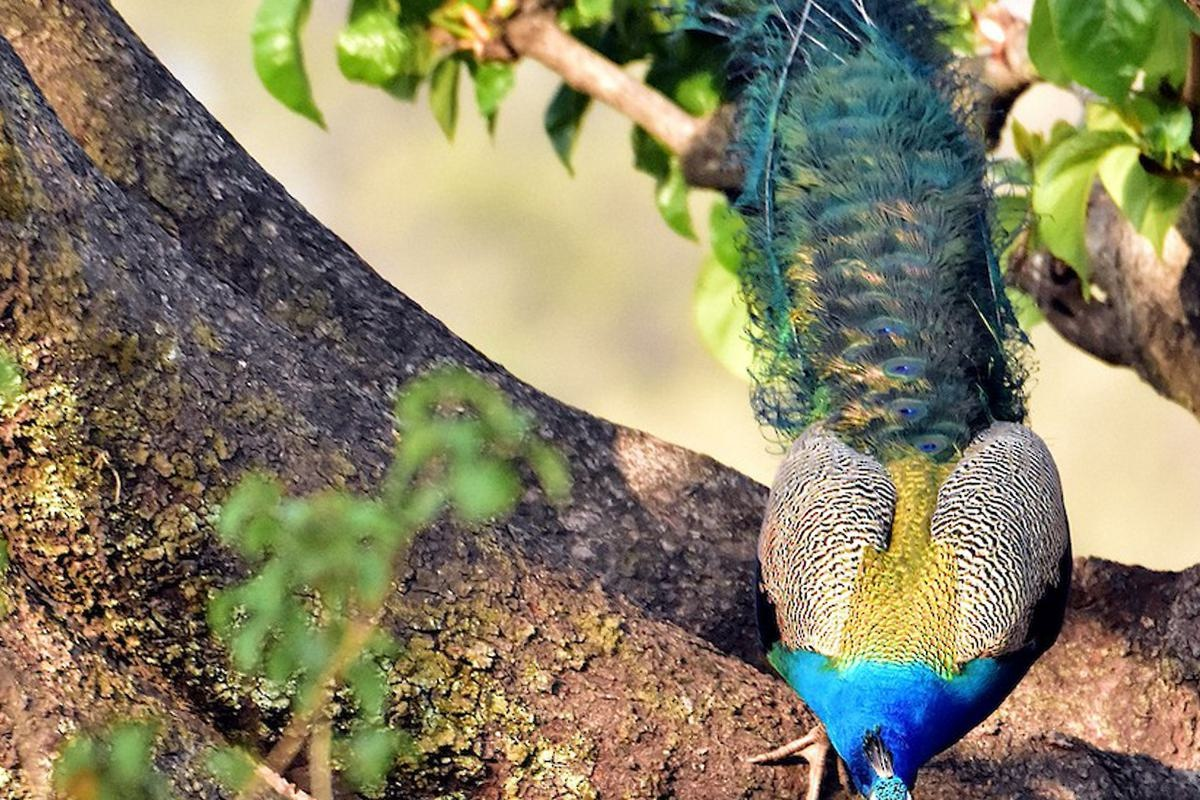peacock: (678, 17, 1154, 800)
